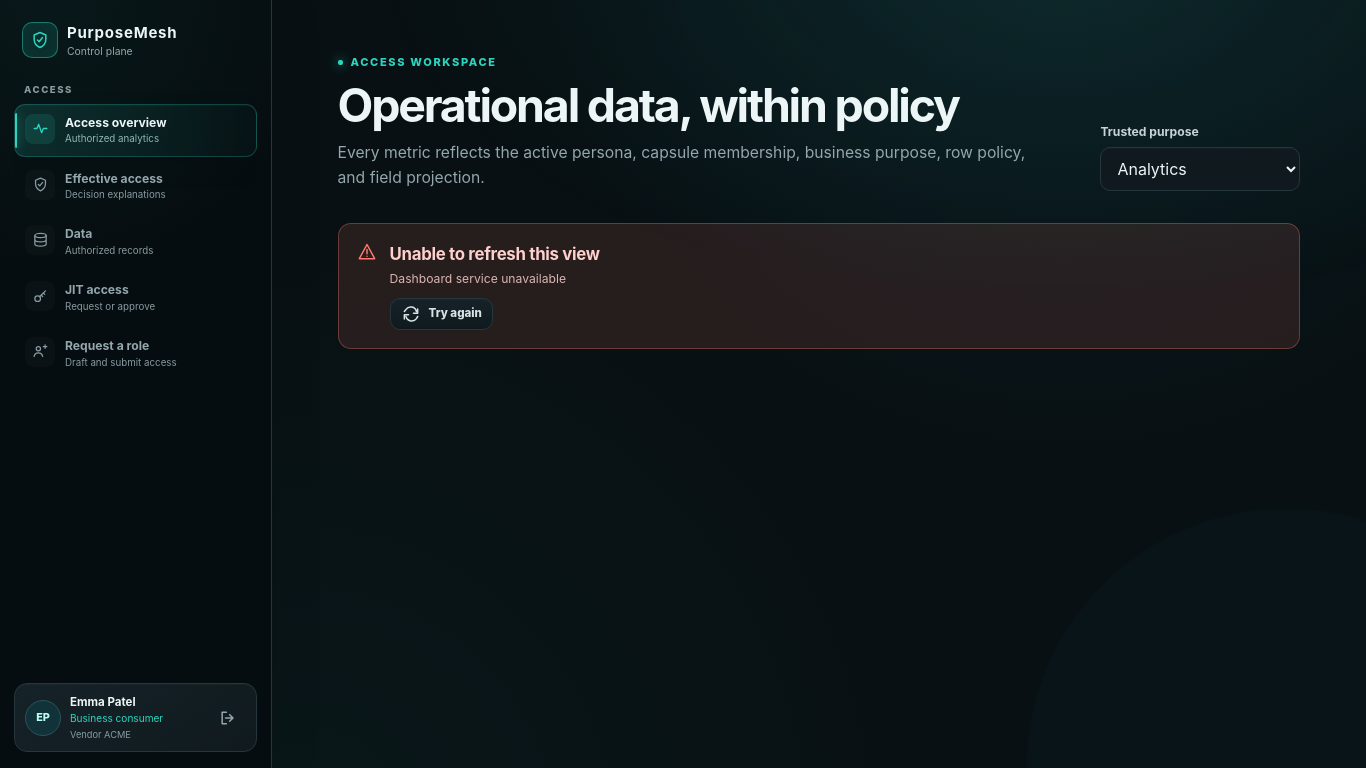
authorization-aware navigation › retries a failed dashboard load and clears the stale error
The width and height of the screenshot is (1366, 768).
Expected: the text "Dashboard service unavailable" is shown, [390,271,566,286]
Click the button "Try again" at (441, 314), box [390,298,493,330]
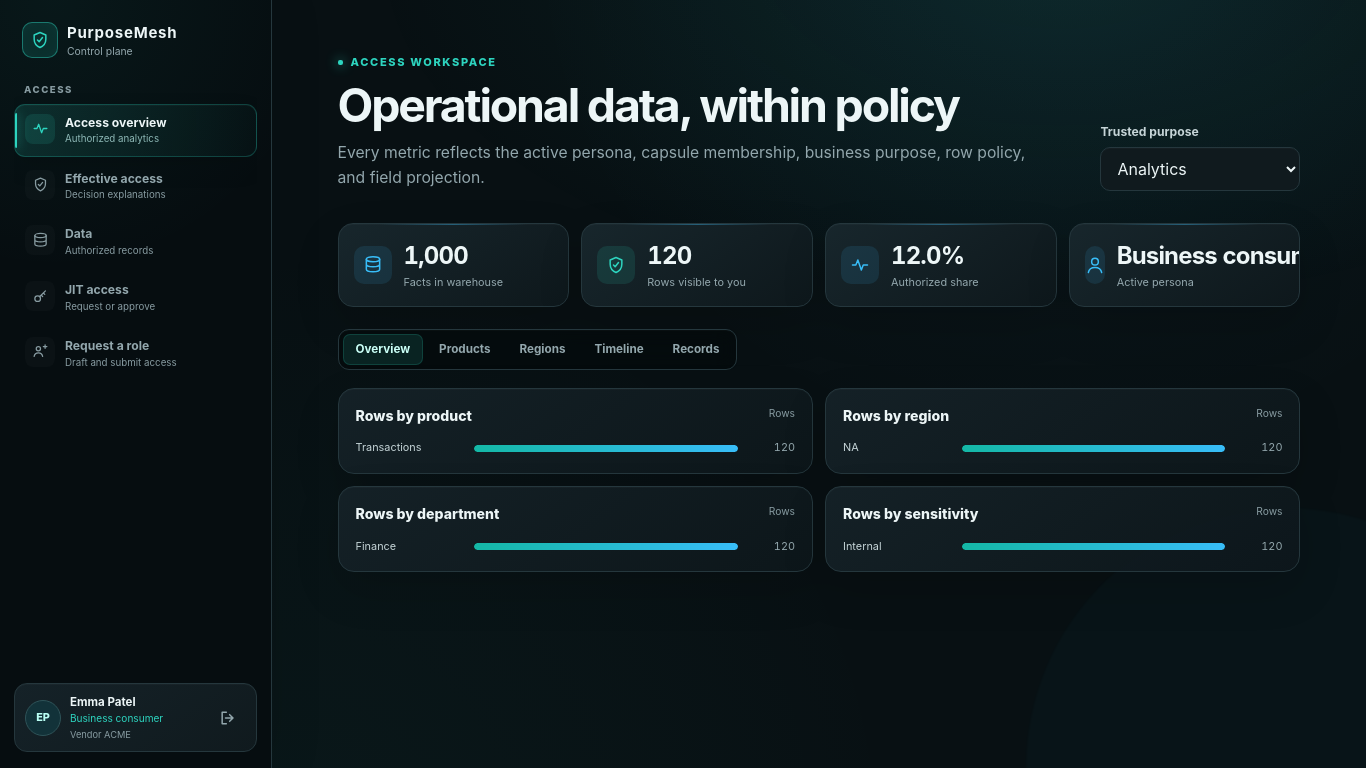
Now the text "Rows visible to you" is shown, box [647,275,746,291]
Now the text "Dashboard service unavailable" is gone
